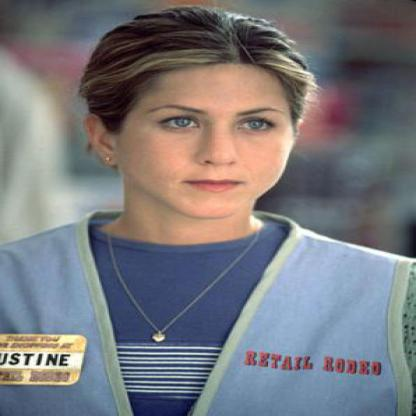face: (114, 28, 304, 220)
